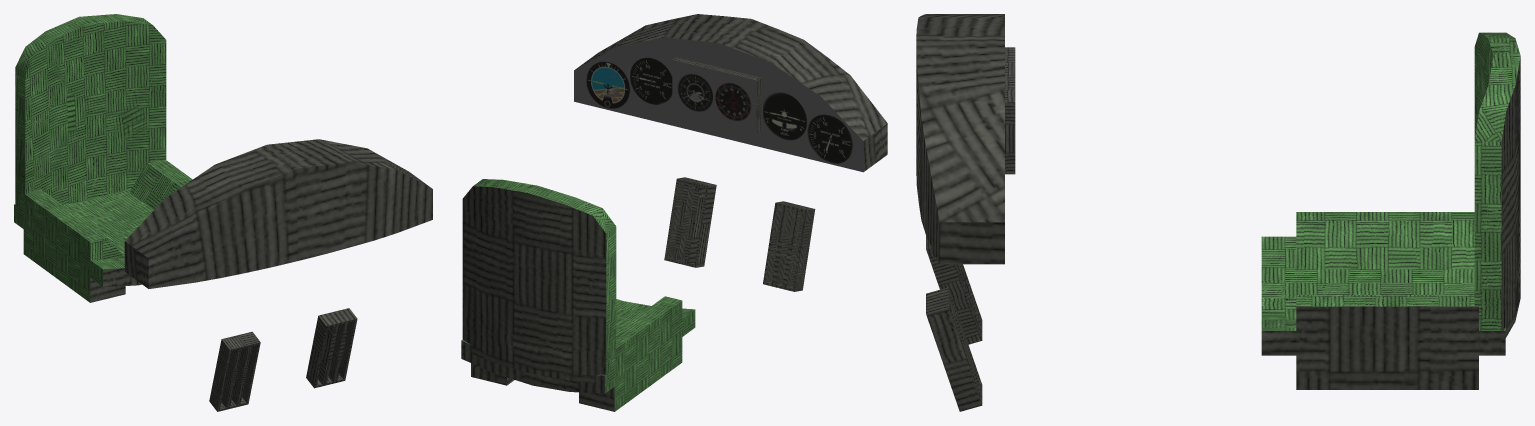
The model's file is p_03_Interior.fbx.
3 views of the same model, side by side, from view 1: azimuth 30°, elevation 25°; view 2: azimuth 150°, elevation 25°; view 3: azimuth 270°, elevation 25° (orthographic). The views are drawn at different scales.
Visible parts, largest first — view 1: P_03_Cabin; view 2: P_03_Cabin; view 3: P_03_Cabin.
Boxes of the visible parts, x1,y1,x2,y2 form: P_03_Cabin: (14,14,432,411); P_03_Cabin: (461,14,887,411); P_03_Cabin: (916,14,1520,411).
Bounding box in the file's own units: 30.04 × 24.14 × 40.31.
